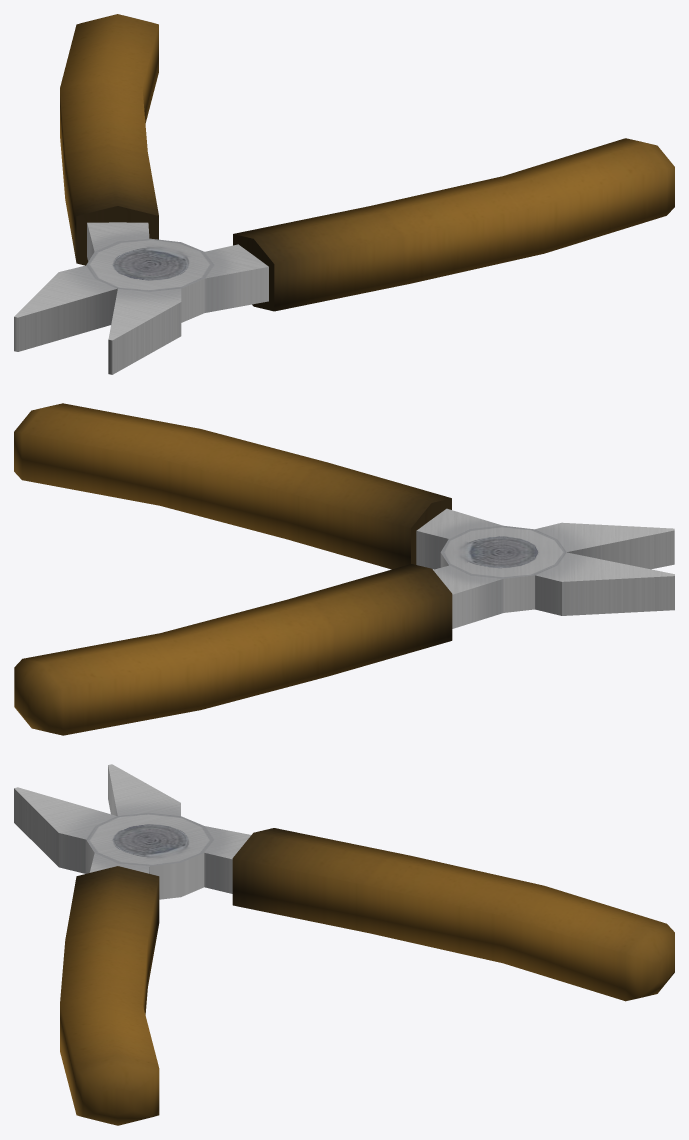
Rendered from yellow_pliers.FBX.
The picture shows the model from 3 angles, top to bottom: view 1: azimuth 30°, elevation 25°; view 2: azimuth 150°, elevation 25°; view 3: azimuth 270°, elevation 25°; orthographic projection.
Parts seen in each view (by area): view 1: yellow_pliers; view 2: yellow_pliers; view 3: yellow_pliers.
Part boxes in pixels (x1,y1,x2,y2): yellow_pliers: (14, 14, 674, 374); yellow_pliers: (14, 403, 674, 735); yellow_pliers: (14, 764, 674, 1125).
Bounding box in the file's own units: 241 × 23.8 × 210.
1 material, 1 textured.
